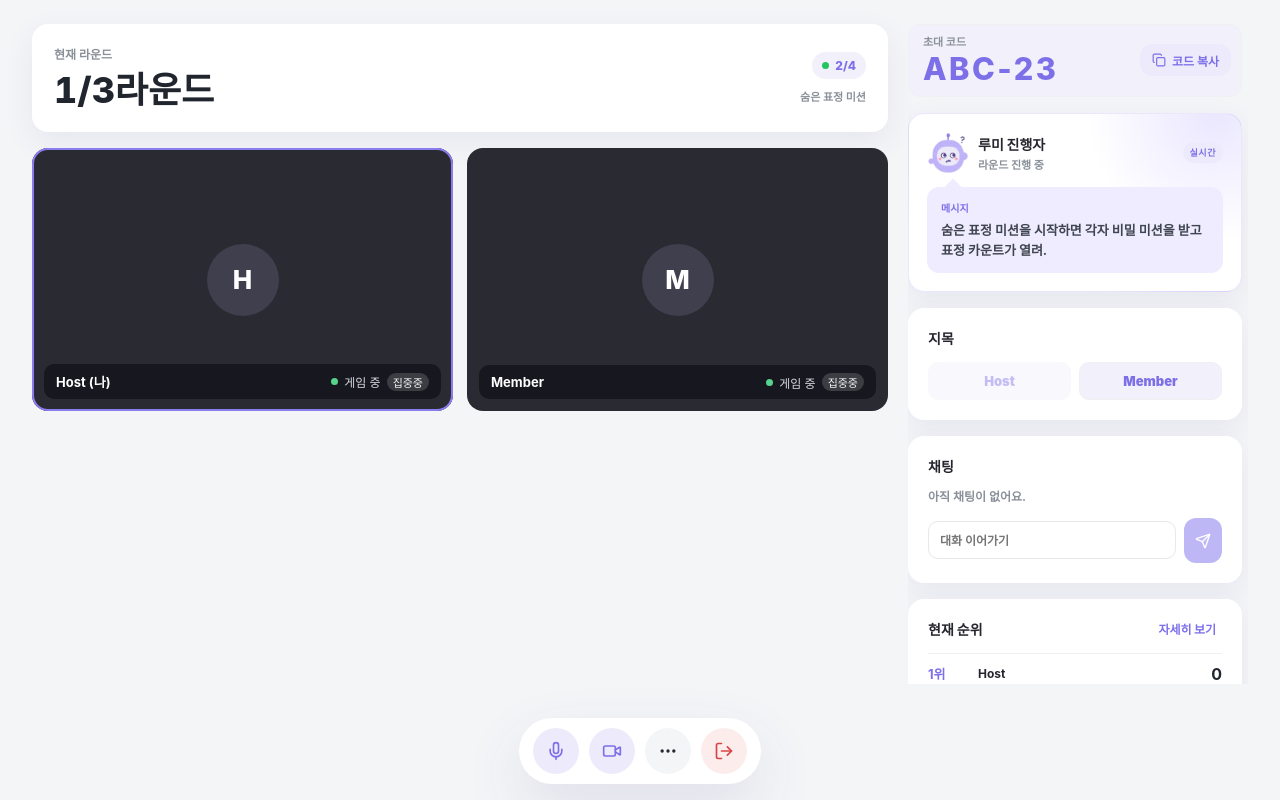
Test case: StudyRoom hidden mission progress › opens mission guess choices even when the public game snapshot hides missions
Click the button "Member". click: {"x": 1150, "y": 381}
box: x1=1079 y1=362 x2=1222 y2=400
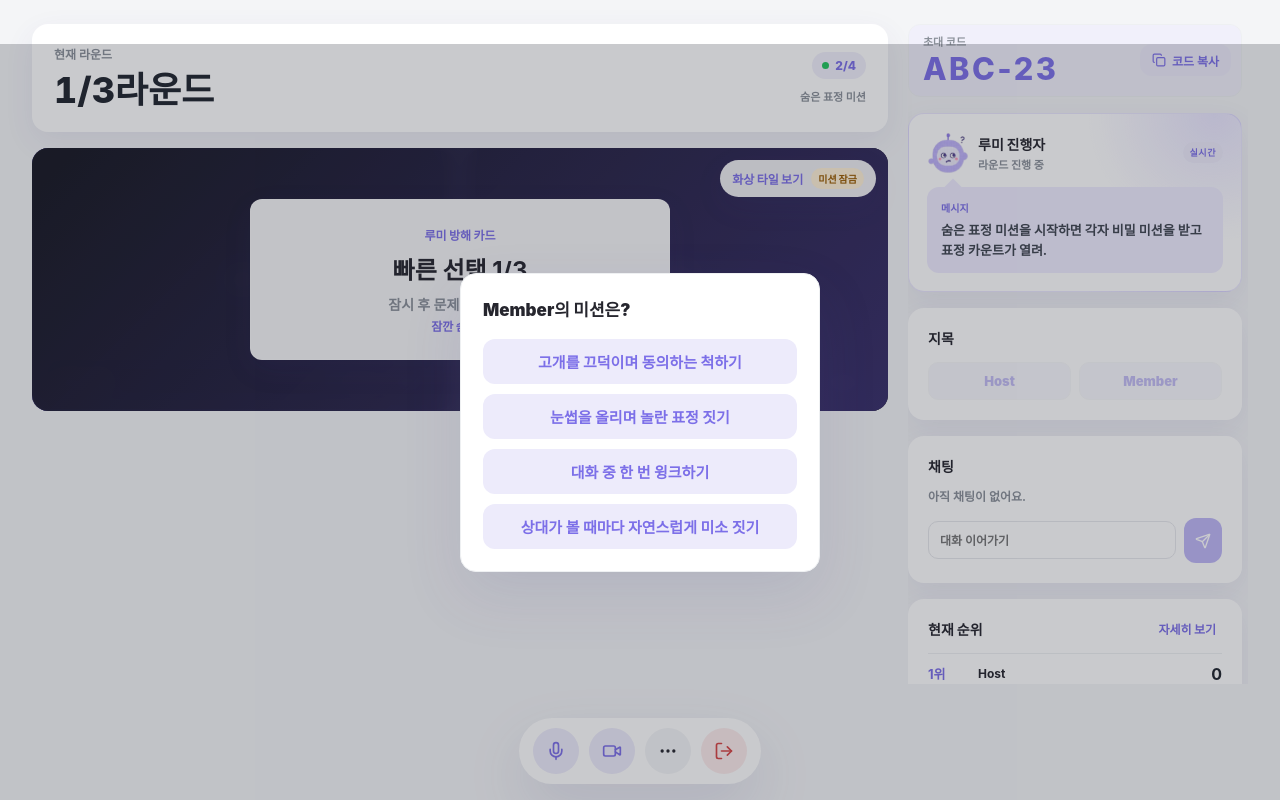
Expected: the dialog named "미션 맞추기" is shown
Expected: the button "대화 중 한 번 윙크하기" is shown, x1=483 y1=448 x2=797 y2=494
